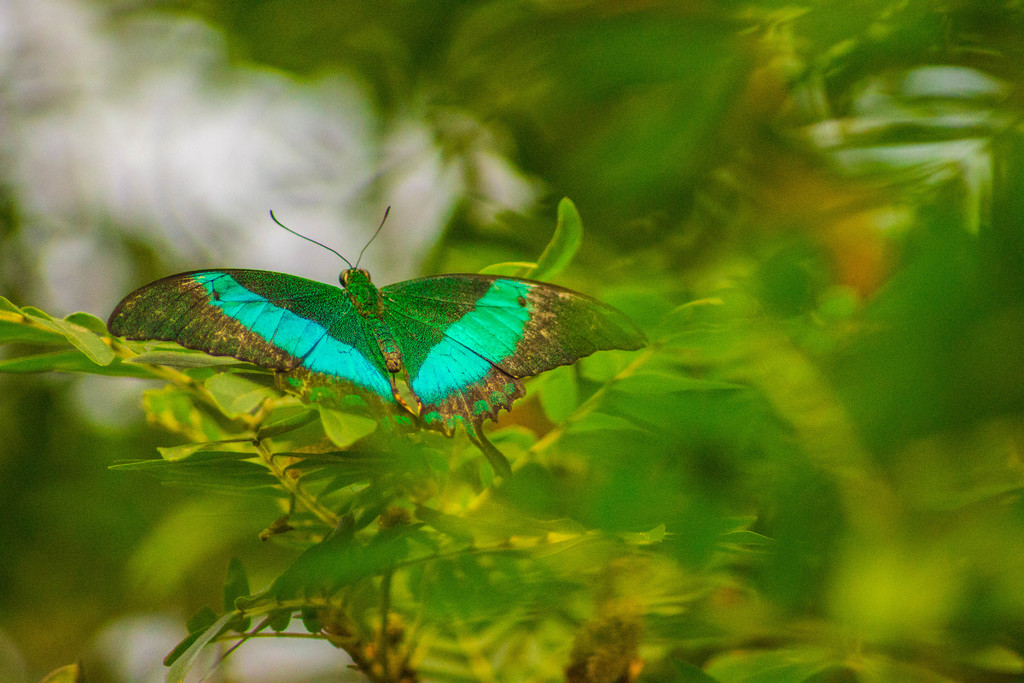Butterfly: (104, 235, 643, 443)
